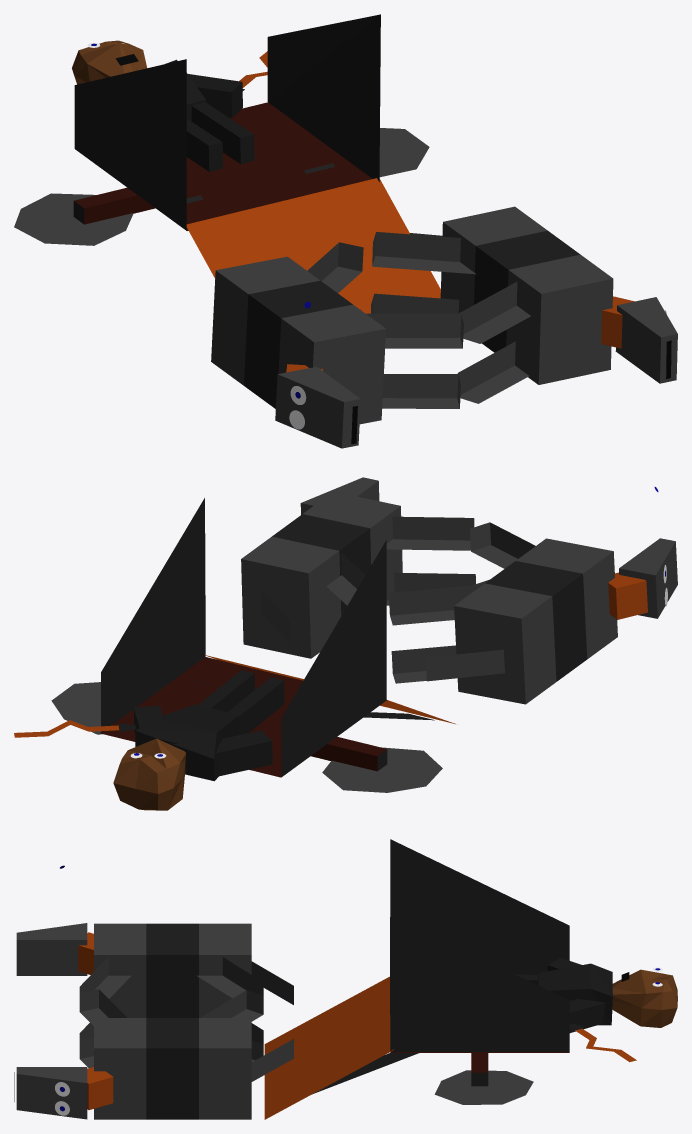
The model's file is heavychariot3d.obj.
3 views of the same model, one above another, from view 1: azimuth 30°, elevation 25°; view 2: azimuth 150°, elevation 25°; view 3: azimuth 270°, elevation 25° (orthographic). The views are drawn at different scales.
Parts seen in each view (by area): view 1: Cube.006_Cube.009, Cube.015_Cube.017, Plane.005_Plane.006, Plane.004, Plane.003, Plane.002, Cube.021_Cube.023, Cube.014_Cube.016, Plane.007_Plane.008, Cube.009_Cube.010, Cube.018_Cube.020, Cube.019_Cube.021 (+11 smaller); view 2: Cube.015_Cube.017, Cube.006_Cube.009, Plane.003, Plane.004, Plane.002, Cube.001, Cube, Plane.007_Plane.008, Cube.012_Cube.014, Cube.021_Cube.023, Cube.017_Cube.019, Cube.003 (+14 smaller); view 3: Plane.004, Cube.006_Cube.009, Plane.003, Cube.015_Cube.017, Plane.005_Plane.006, Cube.021_Cube.023, Cube.014_Cube.016, Cube, Cube.001, Plane.006_Plane.007, Cube.017_Cube.019, Cube.009_Cube.010 (+9 smaller).
Boxes of the visible parts, box(x1,y1,x2,y2) form: Cube.006_Cube.009: box(440, 206, 613, 384); Cube.015_Cube.017: box(211, 256, 385, 424); Plane.005_Plane.006: box(186, 178, 440, 313); Plane.004: box(267, 14, 380, 182); Plane.003: box(74, 59, 186, 230); Plane.002: box(186, 102, 372, 230); Cube.021_Cube.023: box(275, 366, 360, 448); Cube.014_Cube.016: box(615, 297, 677, 383); Plane.007_Plane.008: box(14, 193, 133, 245); Cube.009_Cube.010: box(372, 232, 476, 274); Cube.018_Cube.020: box(366, 313, 463, 348); Cube.019_Cube.021: box(382, 374, 460, 408); Cube.015_Cube.017: box(454, 538, 617, 704); Cube.006_Cube.009: box(241, 491, 402, 658); Plane.003: box(281, 540, 386, 776); Plane.004: box(101, 498, 205, 732); Plane.002: box(100, 657, 302, 777); Cube.001: box(135, 704, 239, 781); Cube: box(113, 738, 186, 810); Plane.007_Plane.008: box(322, 747, 442, 792); Cube.012_Cube.014: box(380, 516, 474, 550); Cube.021_Cube.023: box(619, 538, 677, 618); Cube.017_Cube.019: box(388, 584, 482, 625); Cube.003: box(216, 730, 272, 776); Plane.004: box(390, 917, 569, 1051); Cube.006_Cube.009: box(94, 1018, 251, 1119); Plane.003: box(390, 839, 569, 974); Cube.015_Cube.017: box(94, 923, 251, 1017); Plane.005_Plane.006: box(264, 976, 394, 1119); Cube.021_Cube.023: box(16, 923, 87, 975); Cube.014_Cube.016: box(16, 1067, 87, 1119); Cube: box(612, 969, 677, 1027); Cube.001: box(538, 963, 612, 1025); Plane.006_Plane.007: box(434, 1070, 533, 1104); Cube.017_Cube.019: box(197, 957, 263, 998); Cube.009_Cube.010: box(200, 990, 263, 1021).
Size of the model in its own units: 9.81 by 6.05 by 17.81.
